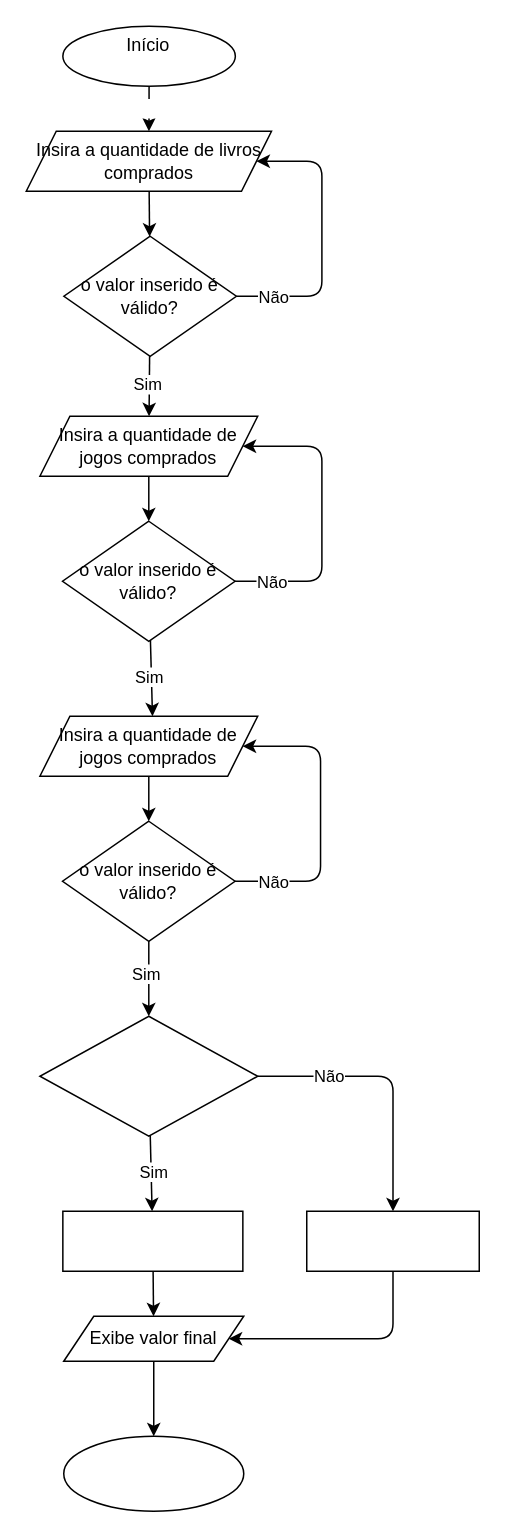
This 506x1538 diagram has some shape labels left out. Each missing label, with the centre of its shape:
"Fim" belongs at [153,1473].
"jogos = 3 ou livros = 2?" belongs at [148,1075].
"Mantem valor final" belongs at [392,1240].
"Valor final subtrai 25" belongs at [152,1240].
